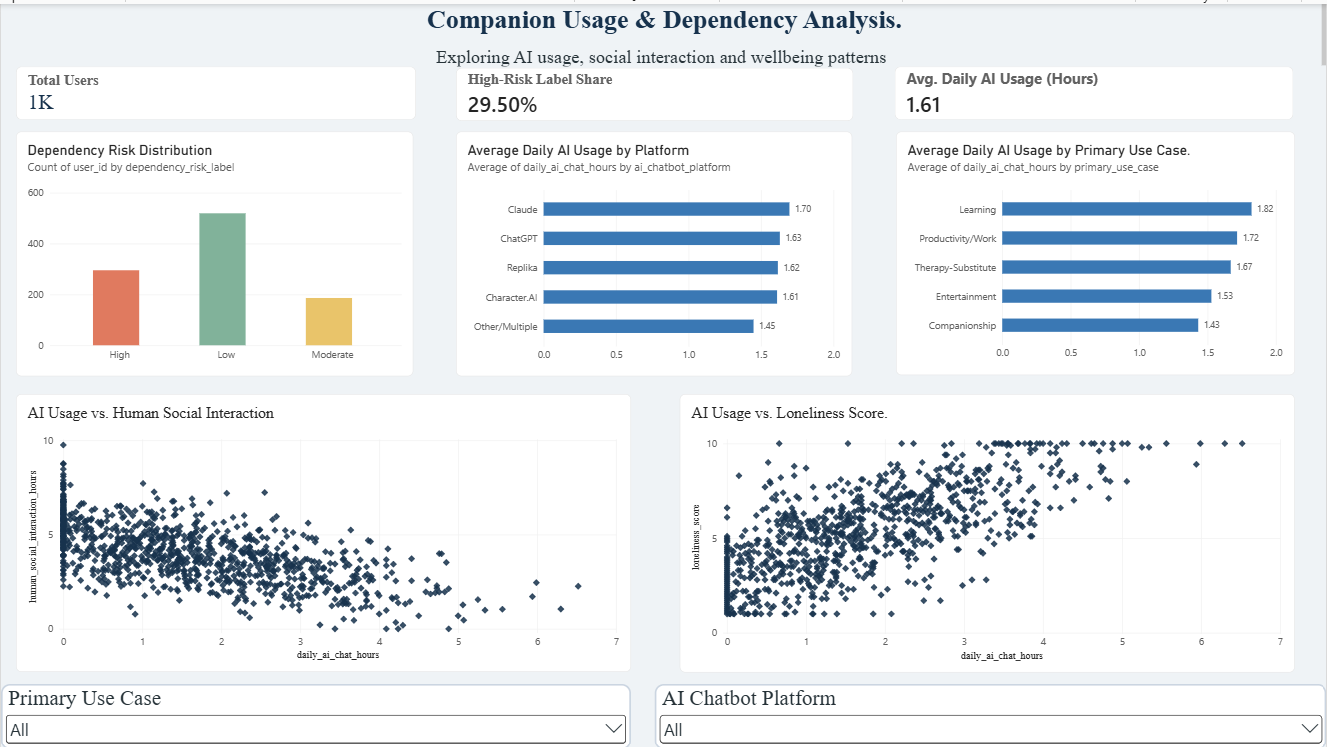

This screenshot's page, from the dashboard's own definition file:
{"tool":"powerbi","page":{"name":"Page 1","canvas":[1920,1080],"ordinal":0},"visuals":[{"type":"cardVisual","fields":{"Data":["CountNonNull(ai_companion_dependency_dataset.user_id)"]},"box":[21.7,90.5,579.1,77.8],"z":0},{"type":"cardVisual","fields":{"Data":["Avg(ai_companion_dependency_dataset.daily_ai_chat_hours)"]},"box":[1293.9,90.5,577.3,77.8],"z":1000},{"type":"cardVisual","fields":{"Data":["ai_companion_dependency_dataset.High Risk Percentage"]},"box":[658.7,92.3,575.5,77.8],"z":2000},{"type":"clusteredColumnChart","title":"Dependency Risk Distribution","fields":{"Category":["ai_companion_dependency_dataset.dependency_risk_label"],"Y":["Count(ai_companion_dependency_dataset.user_id)"]},"box":[22.5,185,575.5,354.7],"z":3000},{"type":"clusteredBarChart","title":"Average Daily AI Usage by Platform","fields":{"Category":["ai_companion_dependency_dataset.ai_chatbot_platform"],"Y":["Avg(ai_companion_dependency_dataset.daily_ai_chat_hours)"]},"box":[658.7,184.6,573.7,354.7],"z":4000},{"type":"slicer","fields":{"Values":["ai_companion_dependency_dataset.ai_chatbot_platform"]},"box":[946.5,984.5,973.6,95.9],"z":5000},{"type":"slicer","fields":{"Values":["ai_companion_dependency_dataset.primary_use_case"]},"box":[0,984.5,912.1,95.9],"z":6000},{"type":"textbox","box":[0,0,1920.1,90.5],"z":7000},{"type":"clusteredBarChart","title":"Average Daily AI Usage by Primary Use Case.","fields":{"Category":["ai_companion_dependency_dataset.primary_use_case"],"Y":["Avg(ai_companion_dependency_dataset.daily_ai_chat_hours)"]},"box":[1295,185,577.3,352.9],"z":8000},{"type":"scatterChart","title":"AI Usage vs. Human Social Interaction","fields":{"X":["ai_companion_dependency_dataset.daily_ai_chat_hours"],"Y":["ai_companion_dependency_dataset.human_social_interaction_hours"]},"box":[22.5,565,890,402.5],"z":9000},{"type":"scatterChart","title":"AI Usage vs. Loneliness Score.","fields":{"X":["ai_companion_dependency_dataset.daily_ai_chat_hours"],"Y":["ai_companion_dependency_dataset.loneliness_score"]},"box":[982.6,564.6,890.4,403.6],"z":10000}]}

Visuals, with their boxes in screenshot pixels (x1, y1, x2, y2), scaled from the page's 1920x1080 canvas onto the 1327x747 screenshot:
cardVisual - CountNonNull(ai_companion_dependency_dataset.user_id): {"x1": 15, "y1": 63, "x2": 415, "y2": 116}
cardVisual - Avg(ai_companion_dependency_dataset.daily_ai_chat_hours): {"x1": 894, "y1": 63, "x2": 1293, "y2": 116}
cardVisual - ai_companion_dependency_dataset.High Risk Percentage: {"x1": 455, "y1": 64, "x2": 853, "y2": 118}
"Dependency Risk Distribution" clusteredColumnChart: {"x1": 16, "y1": 128, "x2": 413, "y2": 373}
"Average Daily AI Usage by Platform" clusteredBarChart: {"x1": 455, "y1": 128, "x2": 852, "y2": 373}
slicer - ai_companion_dependency_dataset.ai_chatbot_platform: {"x1": 654, "y1": 681, "x2": 1326, "y2": 746}
slicer - ai_companion_dependency_dataset.primary_use_case: {"x1": 0, "y1": 681, "x2": 630, "y2": 746}
textbox: {"x1": 0, "y1": 0, "x2": 1326, "y2": 63}
"Average Daily AI Usage by Primary Use Case." clusteredBarChart: {"x1": 895, "y1": 128, "x2": 1294, "y2": 372}
"AI Usage vs. Human Social Interaction" scatterChart: {"x1": 16, "y1": 391, "x2": 631, "y2": 669}
"AI Usage vs. Loneliness Score." scatterChart: {"x1": 679, "y1": 391, "x2": 1295, "y2": 670}
